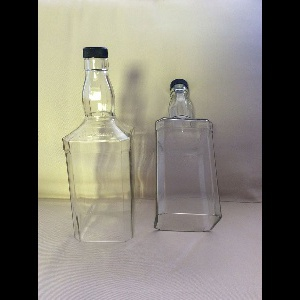emptybottle: (62, 47, 135, 244), (153, 79, 222, 233)
